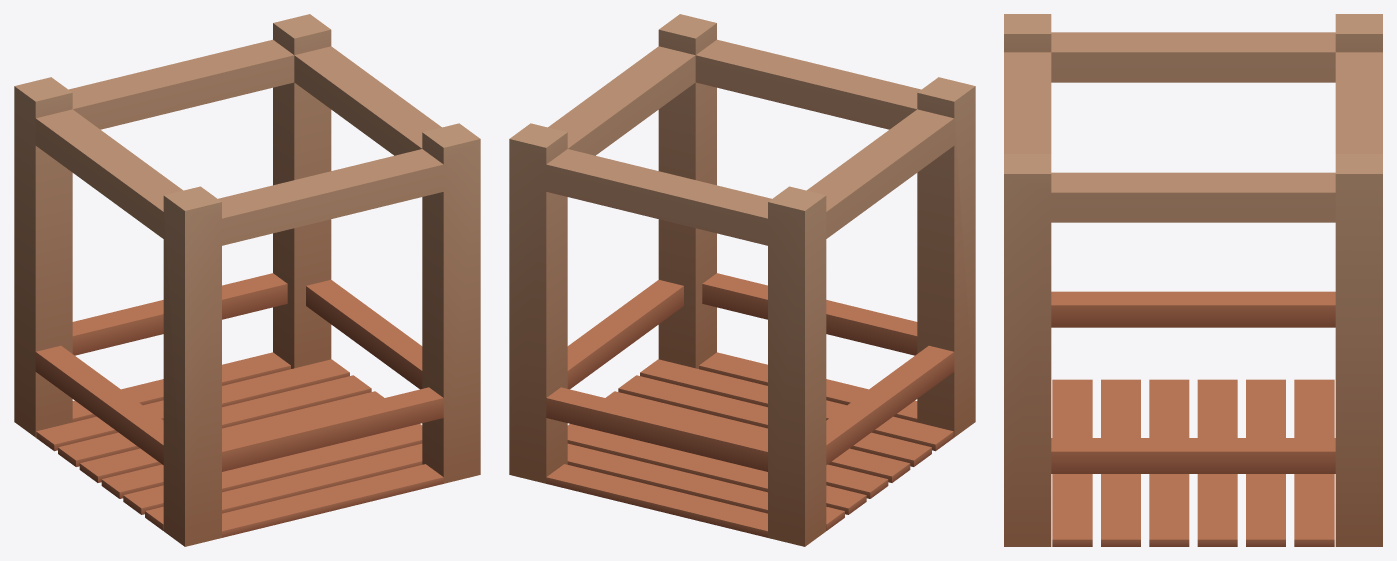
File: tower-square-mid-open.glb
3 views of the same model, side by side, from view 1: azimuth 30°, elevation 25°; view 2: azimuth 150°, elevation 25°; view 3: azimuth 270°, elevation 25° (orthographic). The views are drawn at different scales.
Parts seen in each view (by area): view 1: tower-square-mid-open; view 2: tower-square-mid-open; view 3: tower-square-mid-open.
Boxes of the visible parts, x1,y1,x2,y2 form: tower-square-mid-open: [14, 14, 480, 546]; tower-square-mid-open: [509, 14, 975, 546]; tower-square-mid-open: [1004, 14, 1382, 546].
Bounding box in the file's own units: 0.93 × 1.01 × 0.93.
